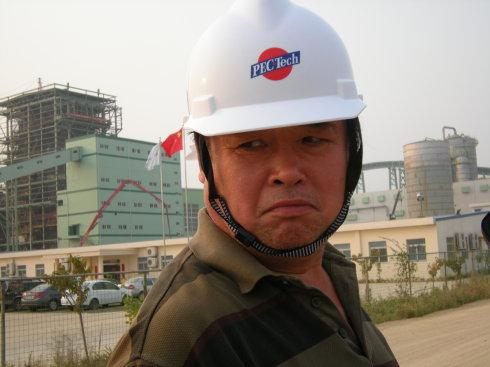helmet: (183, 2, 365, 127)
